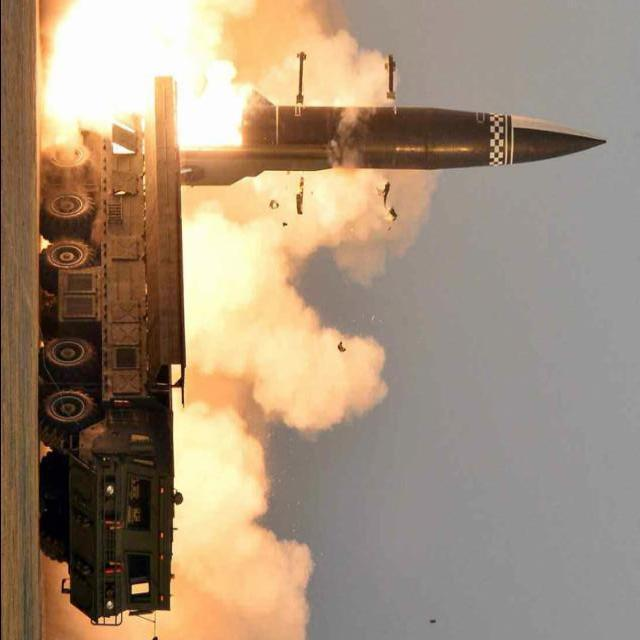missile: (227, 80, 608, 181)
